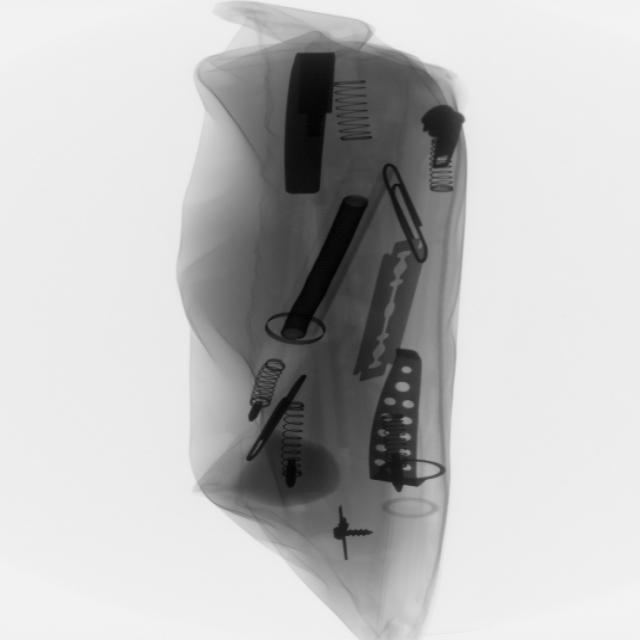BLADE: (353, 237, 427, 391)
